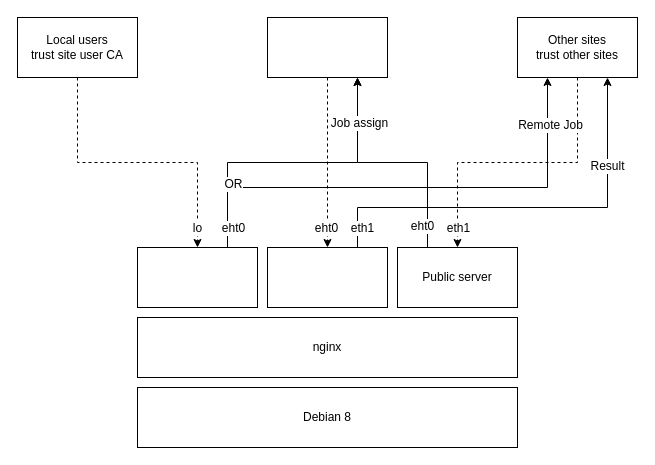
This 655x465 diagram has some shape labels left out. The shapes that lost their labels are listed below. From the top down, each one's box as (x1, y1, x2, y2) in pixels, then its label:
(266, 16, 388, 78): Local machines trust site machine CA
(136, 246, 258, 308): Local server
(266, 246, 388, 308): Machine server
